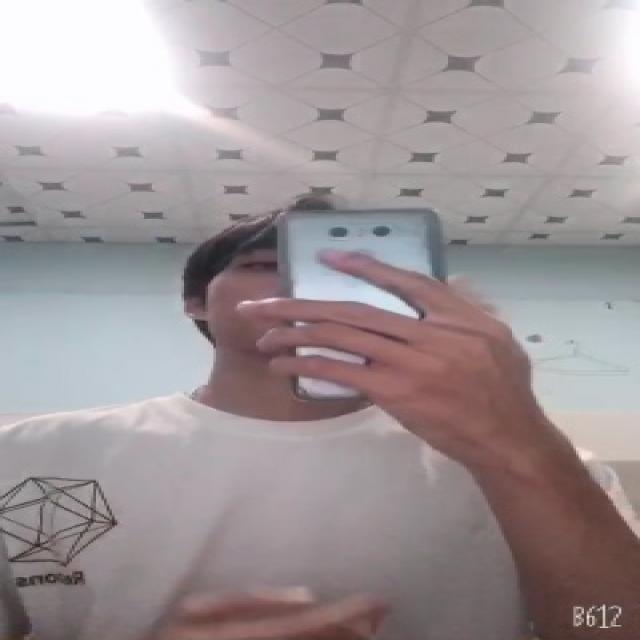Phone: (277, 204, 448, 400)
